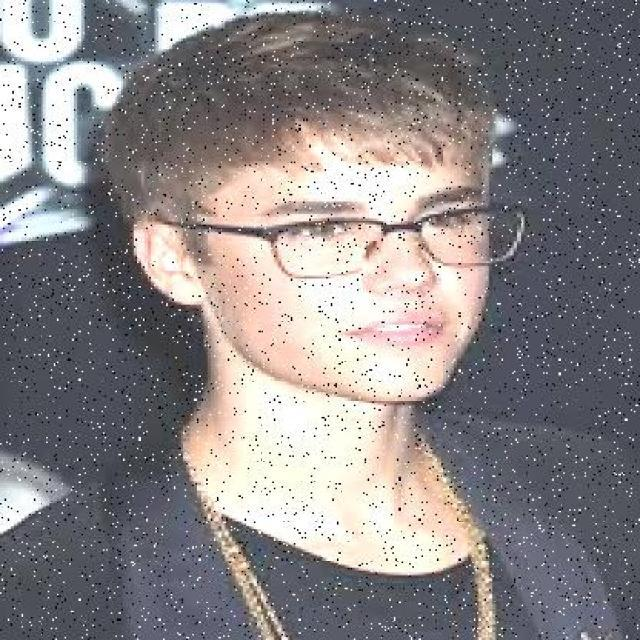glasses: (240, 202, 534, 282)
